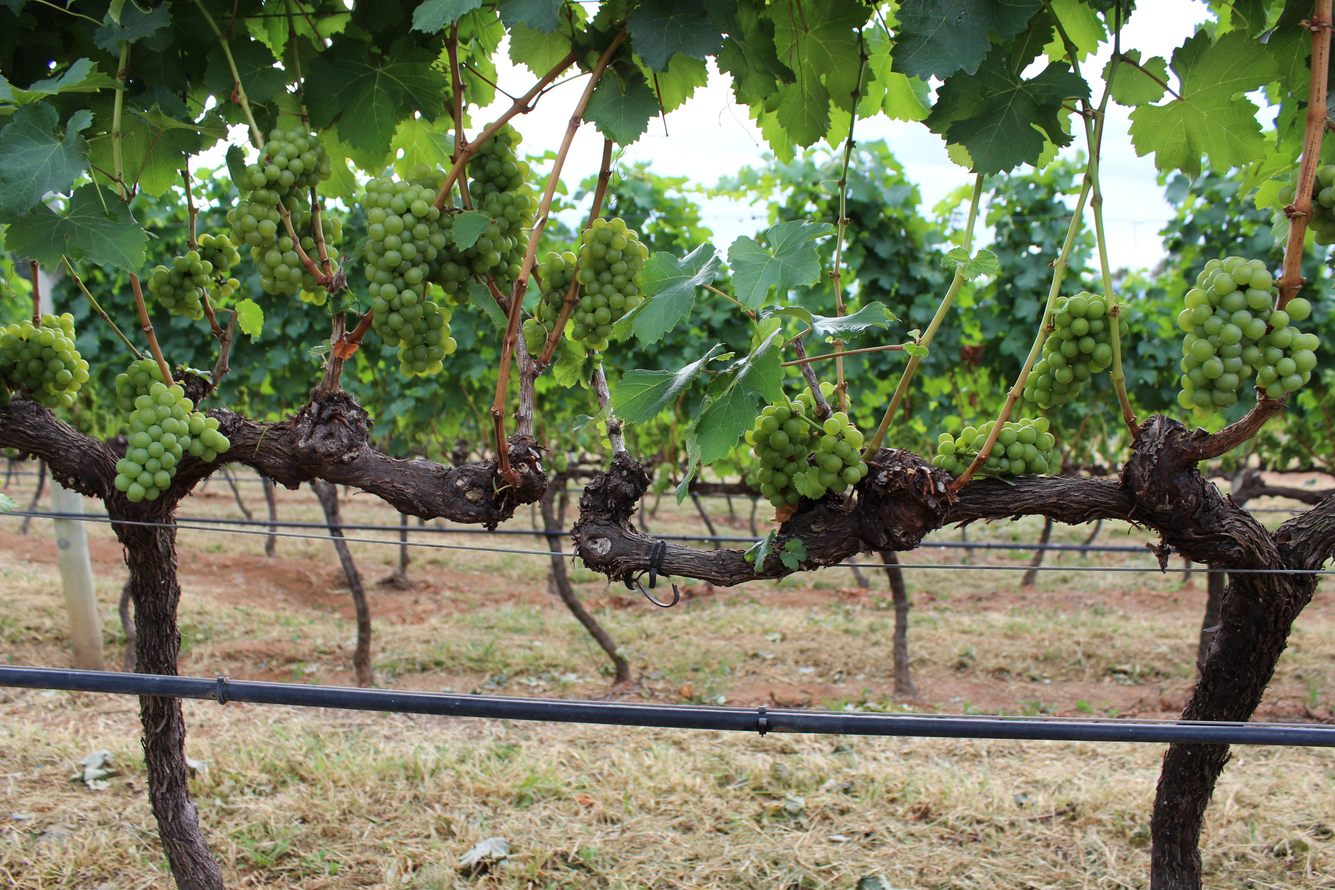leaf: (1129, 31, 1277, 177), (926, 48, 1089, 175), (304, 40, 448, 153), (4, 185, 147, 272), (893, 0, 1042, 80), (612, 241, 721, 345), (0, 101, 92, 215), (729, 220, 833, 309), (611, 344, 722, 422), (627, 0, 722, 71), (584, 65, 660, 145), (3, 58, 116, 105), (93, 3, 171, 54), (391, 116, 453, 179), (1102, 49, 1168, 107), (229, 39, 285, 103), (809, 301, 896, 340), (509, 24, 571, 77), (412, 0, 481, 33), (499, 0, 563, 33), (941, 247, 999, 280), (468, 281, 507, 330), (204, 48, 235, 102), (451, 211, 492, 250), (743, 529, 776, 572), (234, 297, 264, 341), (780, 537, 808, 571), (487, 292, 494, 303), (307, 78, 311, 85), (498, 309, 499, 311), (484, 288, 485, 290), (478, 285, 480, 286), (543, 72, 545, 73), (420, 7, 420, 9)
